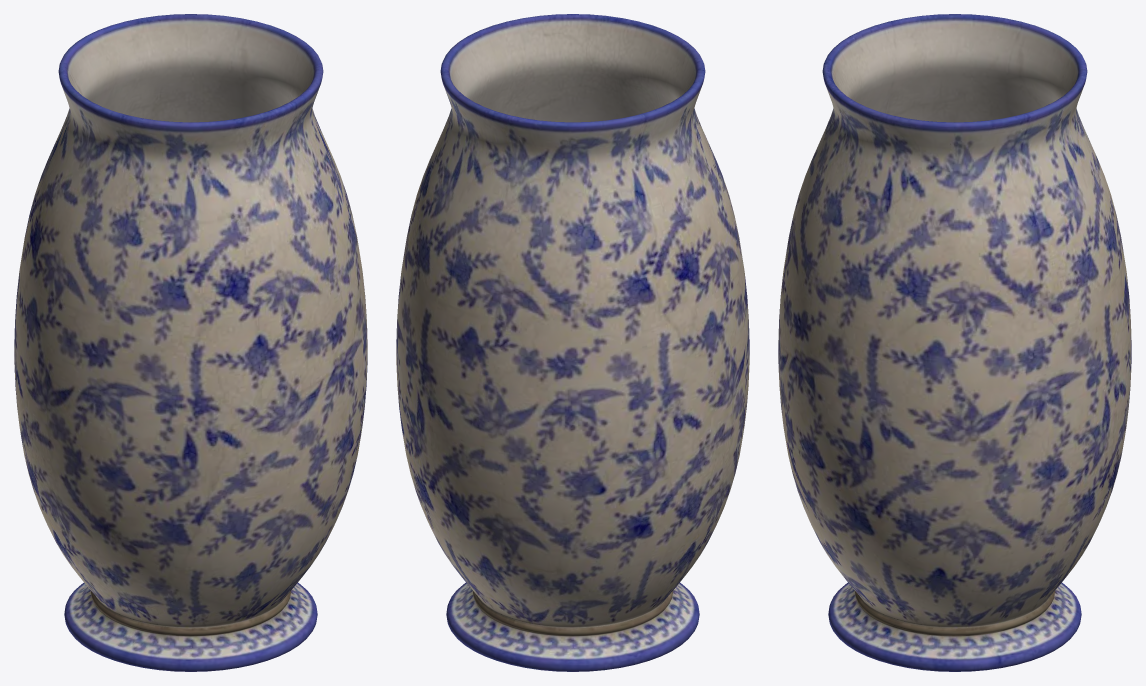
Rendered from ph-antique-vase.glb.
The picture shows the model from 3 angles, left to right: view 1: azimuth 30°, elevation 25°; view 2: azimuth 150°, elevation 25°; view 3: azimuth 270°, elevation 25°; orthographic projection.
Visible parts, largest first — view 1: antique_ceramic_vase_01; view 2: antique_ceramic_vase_01; view 3: antique_ceramic_vase_01.
Part boxes in pixels (x1,y1,x2,y2): antique_ceramic_vase_01: [14, 14, 367, 671]; antique_ceramic_vase_01: [396, 14, 749, 671]; antique_ceramic_vase_01: [778, 14, 1131, 671].
Bounding box in the file's own units: 0.255 × 0.4396 × 0.255.
Materials: 1 (1 with a texture image).
